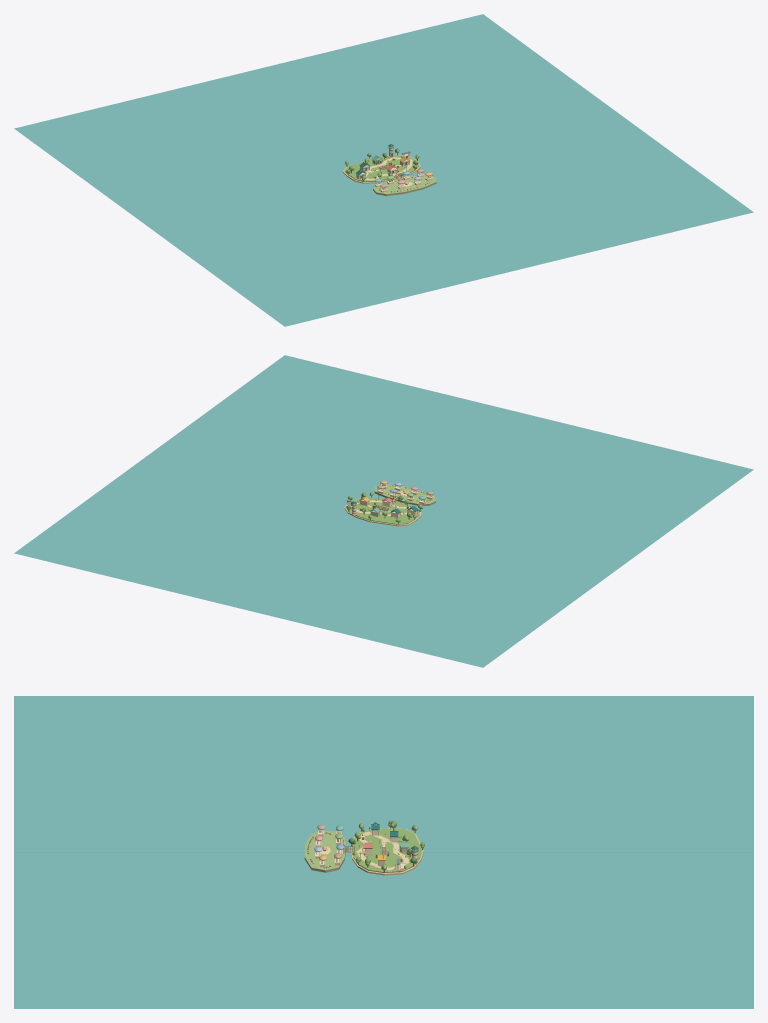
Rendered from village.glb.
The picture shows the model from 3 angles, top to bottom: view 1: azimuth 30°, elevation 25°; view 2: azimuth 150°, elevation 25°; view 3: azimuth 270°, elevation 25°; orthographic projection. The views are drawn at different scales.
Visible parts, largest first — view 1: sunlit-village, friendship-fair; view 2: sunlit-village, friendship-fair; view 3: sunlit-village, friendship-fair.
Part boxes in pixels (box(x1,y1,x2,y2)): sunlit-village: box(14, 14, 753, 326); friendship-fair: box(373, 171, 436, 195); sunlit-village: box(14, 355, 753, 667); friendship-fair: box(374, 484, 435, 505); sunlit-village: box(14, 696, 753, 1008); friendship-fair: box(304, 830, 354, 872).
Bounding box in the file's own units: 160 × 4.79 × 160.
